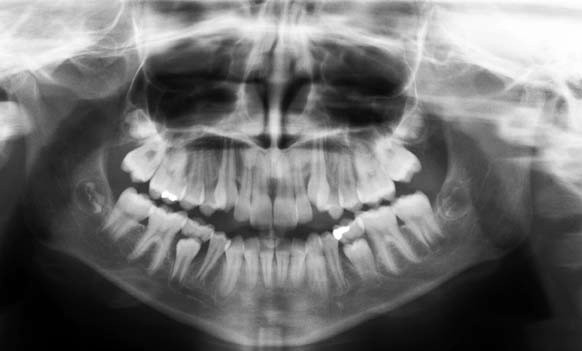canine: (213, 119, 241, 211), (302, 230, 329, 306), (308, 118, 330, 210), (220, 230, 246, 302)
incisor: (268, 147, 300, 227), (249, 137, 275, 228), (233, 129, 254, 221), (292, 134, 312, 224), (286, 232, 308, 297), (255, 231, 276, 293), (242, 235, 263, 294), (271, 235, 291, 296)
molar: (151, 92, 190, 203), (357, 209, 421, 275), (128, 205, 186, 275), (351, 124, 395, 207), (98, 187, 154, 247), (388, 191, 446, 243), (118, 124, 169, 183), (379, 127, 425, 189), (341, 240, 380, 293), (120, 97, 162, 140), (168, 236, 203, 286), (179, 216, 209, 245), (331, 217, 364, 240)
premolar: (178, 117, 208, 209), (197, 124, 225, 217), (319, 230, 353, 300), (199, 230, 234, 288), (321, 133, 344, 221), (335, 130, 356, 211)
